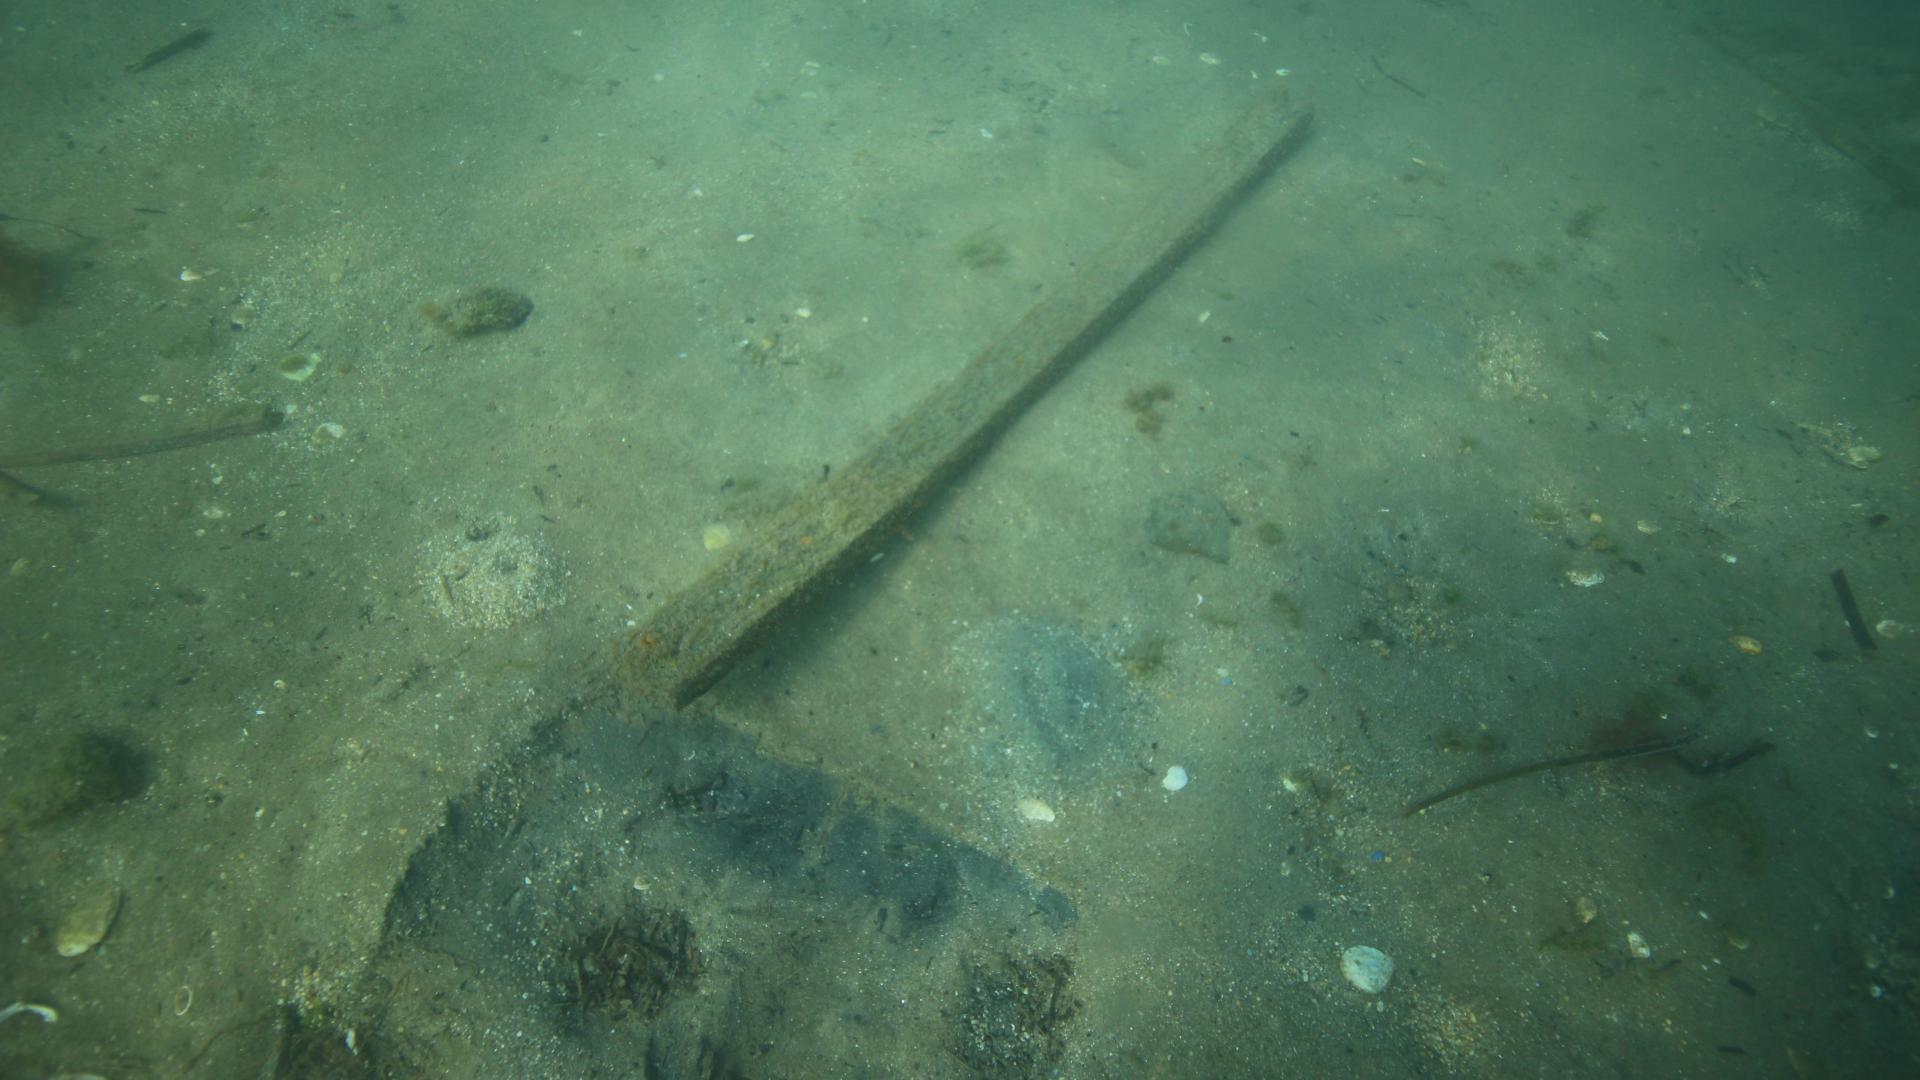wood: (609, 86, 1316, 707)
